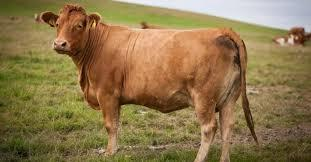cow: (42, 4, 258, 162), (271, 32, 300, 46)
